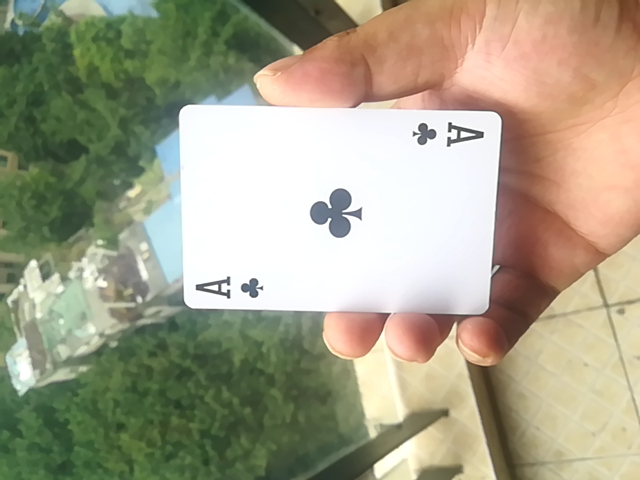mh a: (171, 104, 505, 319)
